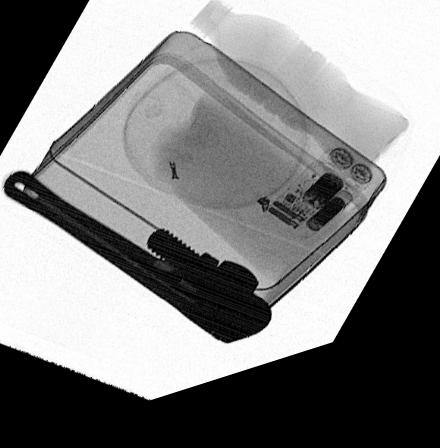Wrench: (0, 169, 273, 359)
